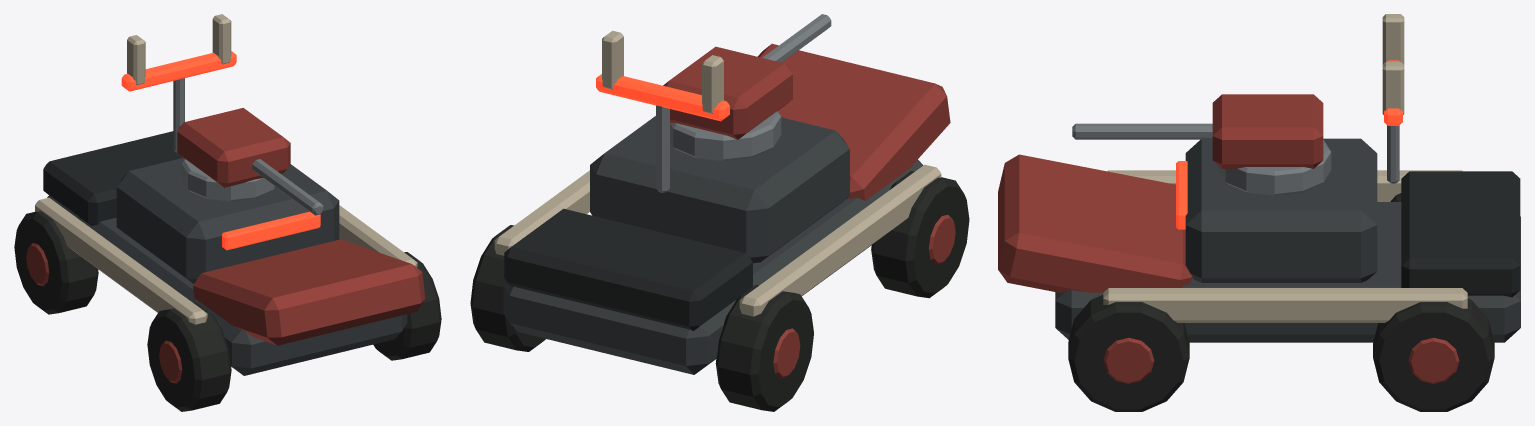
The model's file is ff_en_sct_01_v1.glb.
The picture shows the model from 3 angles, left to right: view 1: azimuth 30°, elevation 25°; view 2: azimuth 150°, elevation 25°; view 3: azimuth 270°, elevation 25°; orthographic projection. The views are drawn at different scales.
Visible parts, largest first — view 1: FF_EN_SCT_01_M_EnemyObsidianArmor_runtime, FF_EN_SCT_01_M_EnemyCrimsonArmor_runtime, FF_EN_SCT_01_M_EnemyTrack_runtime, FF_EN_SCT_01_M_EnemyMarking_runtime, FF_EN_SCT_01_M_EnemyRecess_runtime, turret_yaw_M_EnemyCrimsonArmor_runtime, turret_yaw_M_EnemyGunmetal_runtime, FF_EN_SCT_01_M_EnemySignal_runtime, radar_yaw_M_EnemySignal_runtime, radar_yaw_M_EnemyMarking_runtime, radar_yaw_M_EnemyGunmetal_runtime; view 2: FF_EN_SCT_01_M_EnemyObsidianArmor_runtime, FF_EN_SCT_01_M_EnemyRecess_runtime, FF_EN_SCT_01_M_EnemyTrack_runtime, FF_EN_SCT_01_M_EnemyCrimsonArmor_runtime, FF_EN_SCT_01_M_EnemyMarking_runtime, turret_yaw_M_EnemyCrimsonArmor_runtime, turret_yaw_M_EnemyGunmetal_runtime, radar_yaw_M_EnemySignal_runtime, radar_yaw_M_EnemyMarking_runtime, radar_yaw_M_EnemyGunmetal_runtime; view 3: FF_EN_SCT_01_M_EnemyObsidianArmor_runtime, FF_EN_SCT_01_M_EnemyCrimsonArmor_runtime, FF_EN_SCT_01_M_EnemyTrack_runtime, FF_EN_SCT_01_M_EnemyRecess_runtime, FF_EN_SCT_01_M_EnemyMarking_runtime, turret_yaw_M_EnemyCrimsonArmor_runtime, turret_yaw_M_EnemyGunmetal_runtime, radar_yaw_M_EnemyMarking_runtime, FF_EN_SCT_01_M_EnemySignal_runtime, radar_yaw_M_EnemyGunmetal_runtime.
Boxes of the visible parts, x1,y1,x2,y2 form: FF_EN_SCT_01_M_EnemyObsidianArmor_runtime: (47, 158, 407, 375); FF_EN_SCT_01_M_EnemyCrimsonArmor_runtime: (26, 239, 425, 383); FF_EN_SCT_01_M_EnemyTrack_runtime: (14, 205, 441, 411); FF_EN_SCT_01_M_EnemyMarking_runtime: (35, 197, 417, 324); FF_EN_SCT_01_M_EnemyRecess_runtime: (43, 131, 182, 225); turret_yaw_M_EnemyCrimsonArmor_runtime: (177, 108, 290, 187); turret_yaw_M_EnemyGunmetal_runtime: (181, 158, 323, 215); FF_EN_SCT_01_M_EnemySignal_runtime: (222, 211, 320, 250); radar_yaw_M_EnemySignal_runtime: (121, 51, 236, 91); radar_yaw_M_EnemyMarking_runtime: (127, 14, 231, 84); radar_yaw_M_EnemyGunmetal_runtime: (173, 78, 184, 152); FF_EN_SCT_01_M_EnemyObsidianArmor_runtime: (503, 116, 923, 374); FF_EN_SCT_01_M_EnemyRecess_runtime: (504, 208, 752, 330); FF_EN_SCT_01_M_EnemyTrack_runtime: (470, 171, 969, 411); FF_EN_SCT_01_M_EnemyCrimsonArmor_runtime: (757, 43, 955, 378); FF_EN_SCT_01_M_EnemyMarking_runtime: (494, 164, 941, 316); turret_yaw_M_EnemyCrimsonArmor_runtime: (663, 46, 792, 139); turret_yaw_M_EnemyGunmetal_runtime: (670, 14, 831, 160); radar_yaw_M_EnemySignal_runtime: (596, 74, 729, 121); radar_yaw_M_EnemyMarking_runtime: (602, 30, 723, 113); radar_yaw_M_EnemyGunmetal_runtime: (656, 105, 669, 192); FF_EN_SCT_01_M_EnemyObsidianArmor_runtime: (1055, 138, 1520, 342); FF_EN_SCT_01_M_EnemyCrimsonArmor_runtime: (998, 154, 1459, 383); FF_EN_SCT_01_M_EnemyTrack_runtime: (1068, 193, 1494, 411); FF_EN_SCT_01_M_EnemyRecess_runtime: (1401, 171, 1520, 297); FF_EN_SCT_01_M_EnemyMarking_runtime: (1103, 170, 1467, 322); turret_yaw_M_EnemyCrimsonArmor_runtime: (1212, 94, 1323, 168); turret_yaw_M_EnemyGunmetal_runtime: (1072, 123, 1331, 195); radar_yaw_M_EnemyMarking_runtime: (1382, 14, 1404, 114); FF_EN_SCT_01_M_EnemySignal_runtime: (1176, 161, 1187, 229); radar_yaw_M_EnemyGunmetal_runtime: (1387, 125, 1399, 183).
Bounding box in the file's own units: 2.46 × 2.5 × 3.87.
